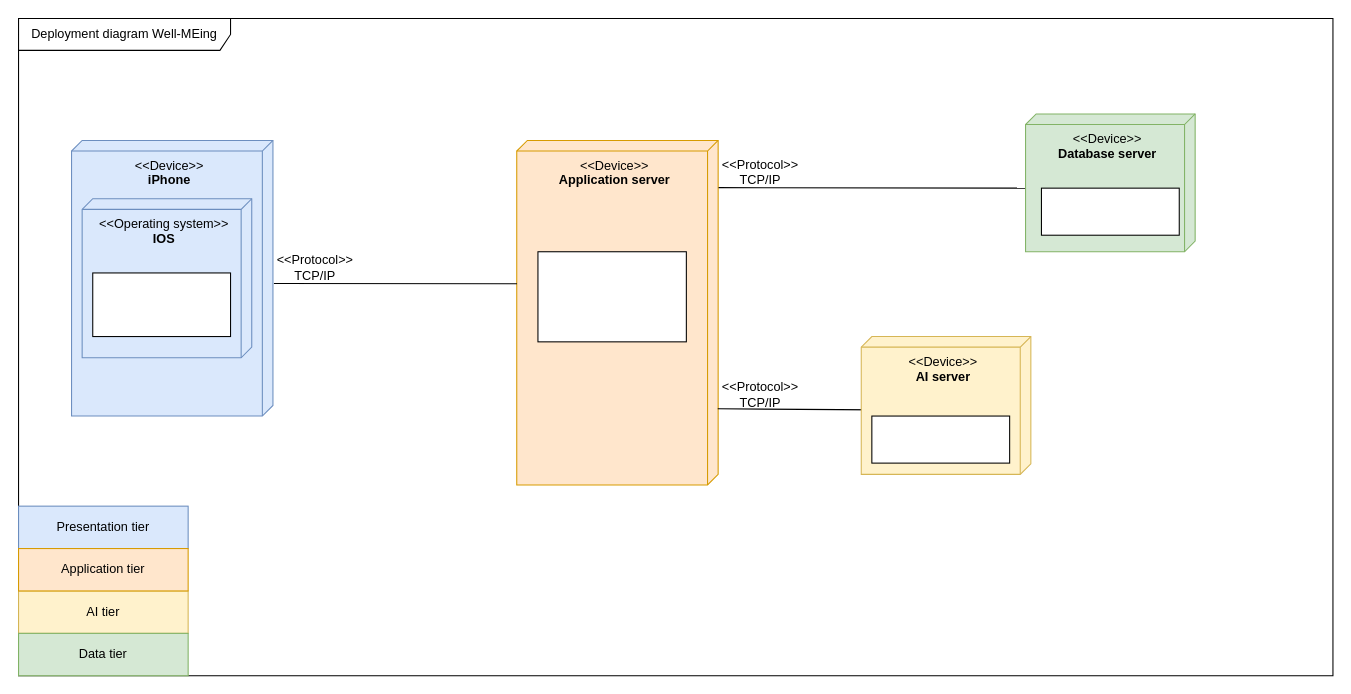
Some shapes in this 1351 by 694 pixel diagram are drawn without their labels. Each missing label, with the centre of its shape:
<<Artifact>> Application: [161,304]
<<Artifact>> DeepSeekAPI: [940,439]
<<Artifact>> MongoDB: [1109,211]
<<Artifact>> Server app: [611,296]
